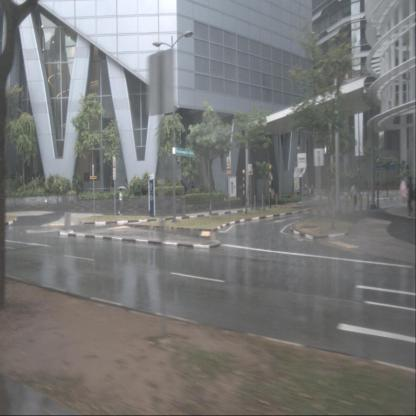human-pedestrian-adult: (399, 176, 415, 218), (117, 186, 127, 216), (350, 182, 357, 210), (179, 180, 187, 197), (190, 180, 196, 198)
